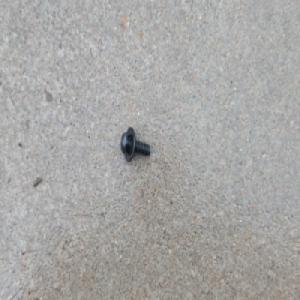BoltWasher: (119, 123, 150, 160)
